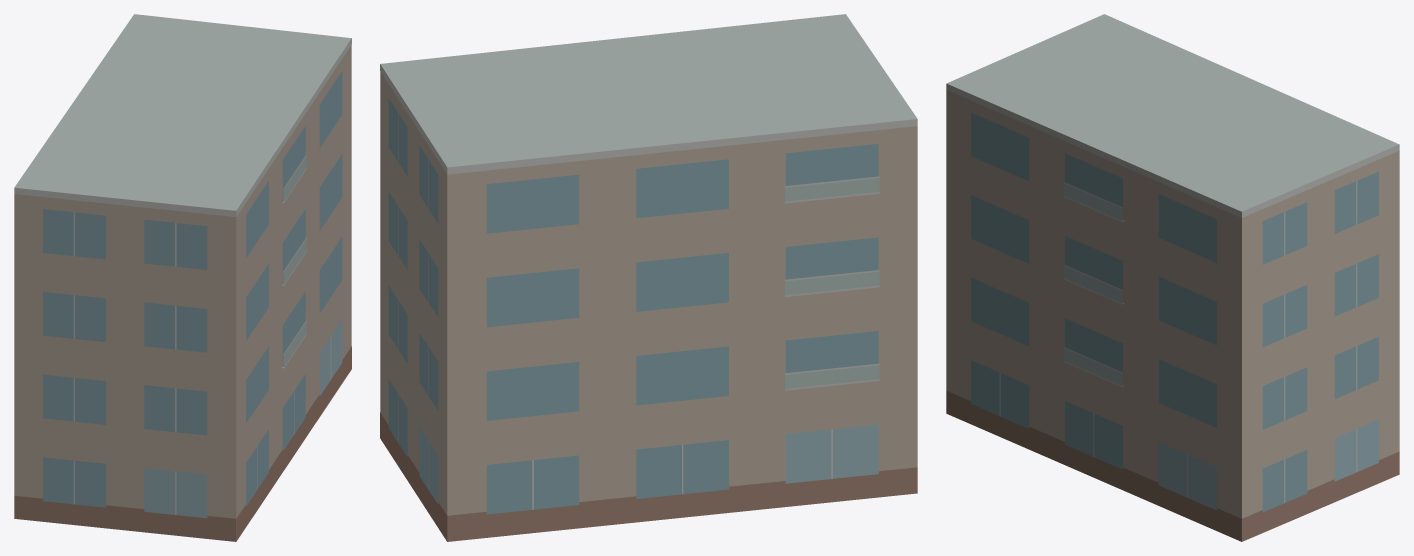
The model's file is survey-upis-32830402.glb.
The picture shows the model from 3 angles, left to right: view 1: azimuth 30°, elevation 25°; view 2: azimuth 150°, elevation 25°; view 3: azimuth 270°, elevation 25°; orthographic projection. The views are drawn at different scales.
Visible parts, largest first — view 1: survey-upis-32830402.tmp; view 2: survey-upis-32830402.tmp; view 3: survey-upis-32830402.tmp.
Part boxes in pixels (bbox=[...]): survey-upis-32830402.tmp: bbox=[14, 14, 351, 541]; survey-upis-32830402.tmp: bbox=[380, 14, 917, 541]; survey-upis-32830402.tmp: bbox=[946, 14, 1399, 541].
Size of the model in its own units: 16.58 by 12.9 by 16.05.
